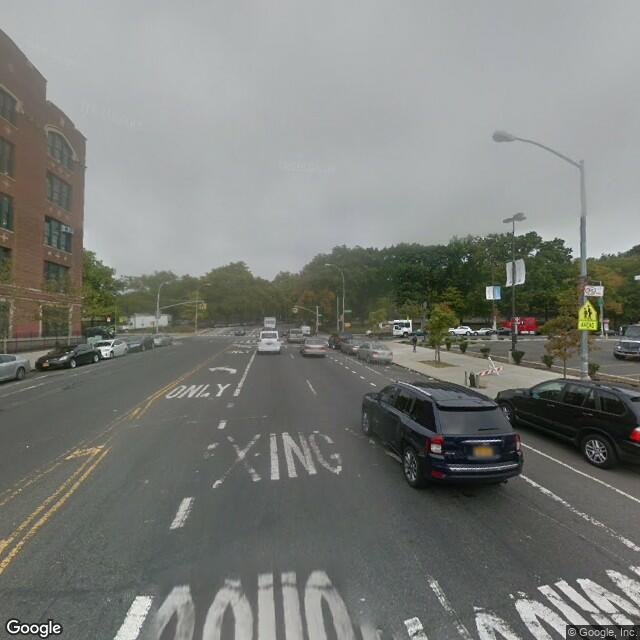litter: (110, 407, 122, 414), (25, 444, 28, 450)
